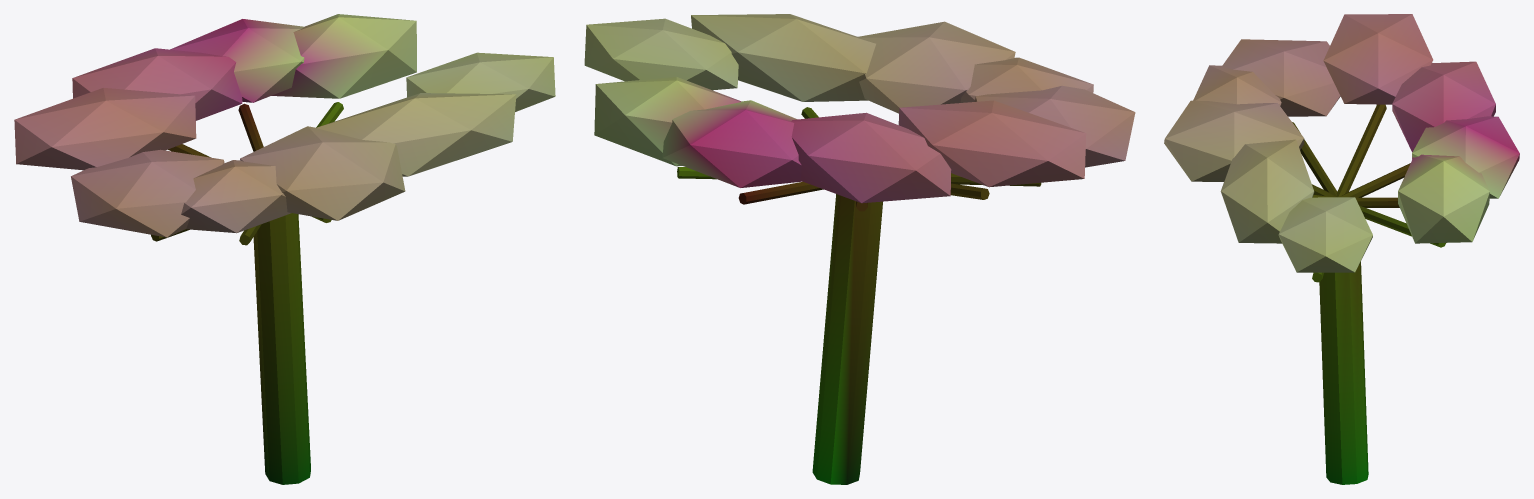
File: mature_savanna_01.glb
3 renders of one model, left to right at view 1: azimuth 30°, elevation 25°; view 2: azimuth 150°, elevation 25°; view 3: azimuth 270°, elevation 25°, orthographic. The views are drawn at different scales.
Parts seen in each view (by area): view 1: mature_savanna_01; view 2: mature_savanna_01; view 3: mature_savanna_01.
Boxes of the visible parts, x1,y1,x2,y2 form: mature_savanna_01: [14, 14, 555, 484]; mature_savanna_01: [584, 14, 1135, 484]; mature_savanna_01: [1164, 14, 1519, 484].
Size of the model in its own units: 10.91 by 8.25 by 7.17.
